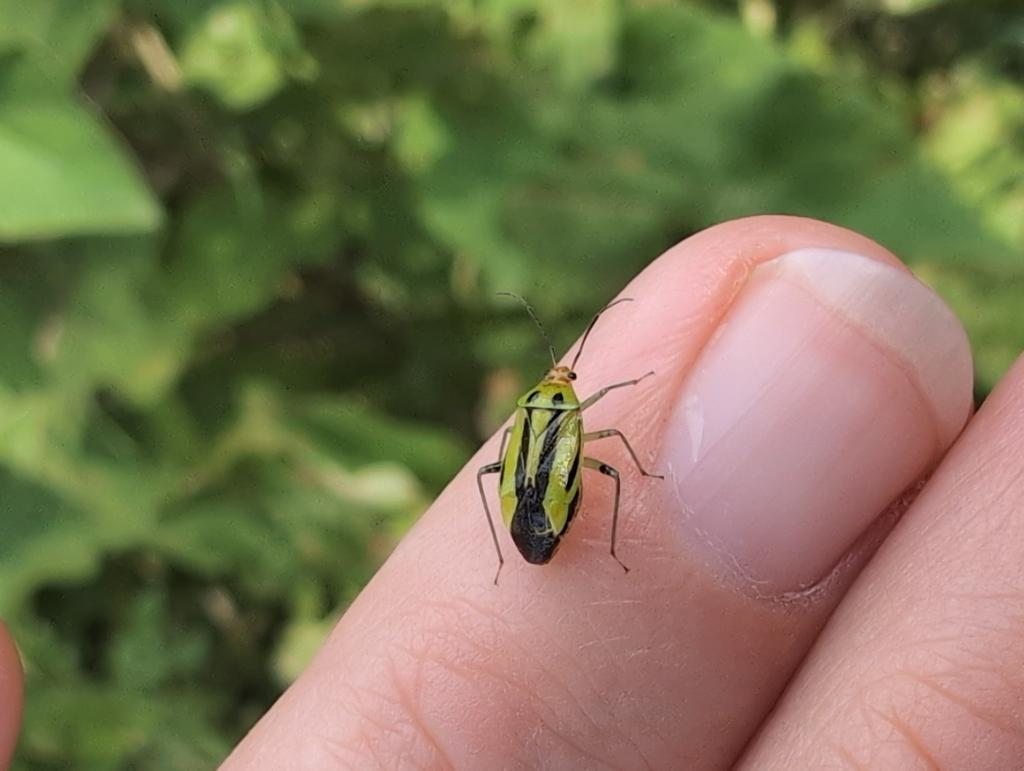plant_bugs: (409, 257, 707, 618)
